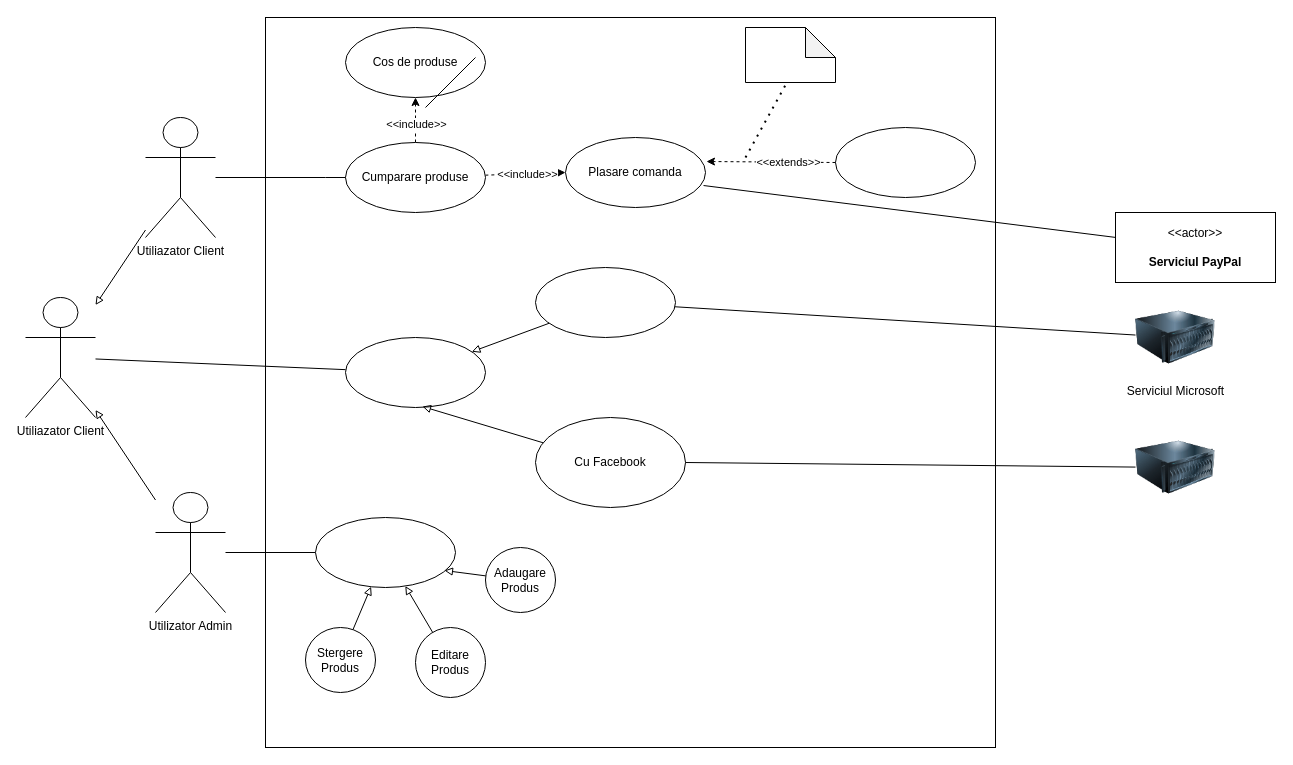
Image size: 1293x765. Some labels were removed from this diagram. The shapes that lost their labels are listed below. From the top down, each one's centre as x and y in pixels, then its label:
the point at 790,54: Buton optional de solicitare a facturii
the point at 905,162: Obtinere Factura
the point at 605,302: Recunoastere Faciala
the point at 415,372: Autentificare
the point at 1175,467: Serviciul Facebook
the point at 385,552: Gestionare Catalog produse
